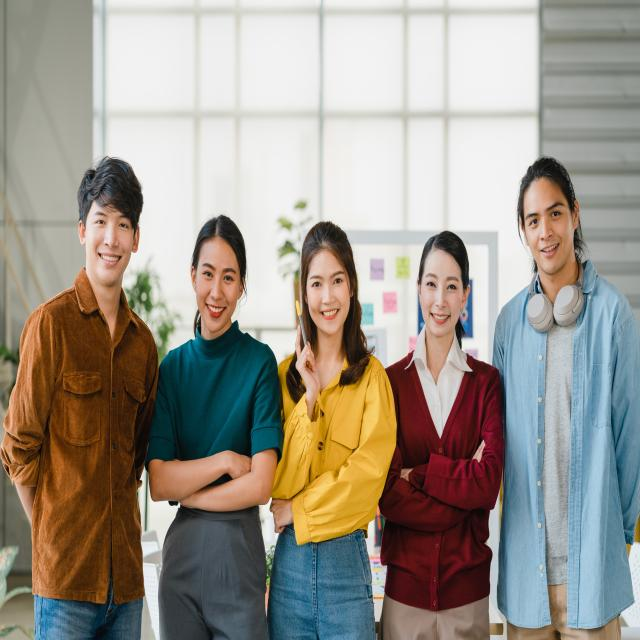Person: (1, 157, 158, 640), (493, 156, 640, 640), (144, 215, 285, 640), (267, 220, 397, 640), (380, 230, 503, 640)
